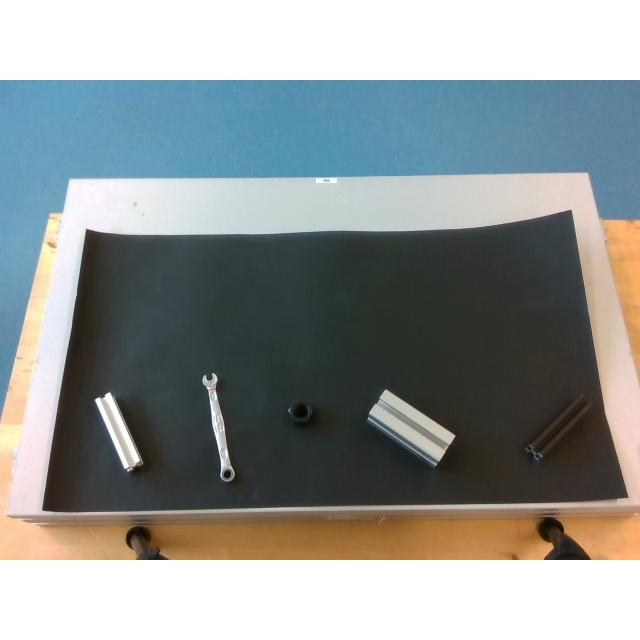F20_20_B: (522, 394, 594, 460)
F20_20_G: (95, 394, 142, 471)
M20: (288, 399, 312, 423)
S40_40_G: (368, 389, 454, 466)
Wrench: (202, 373, 234, 482)
